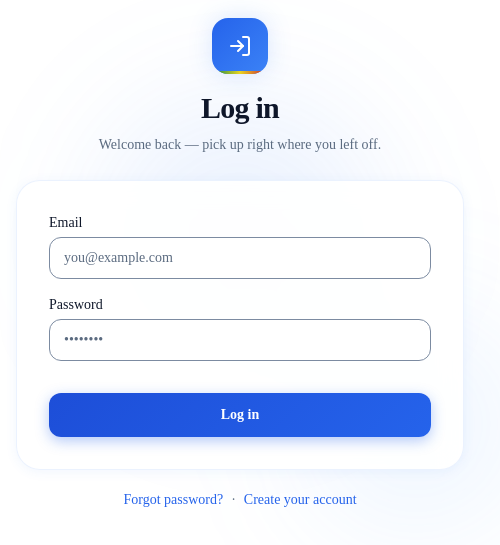
Test: Auth forms › login: fields have labels, names stay, and a failure is announced as an alert
Type "a@b.et" into the field labelled "Email" at (240,258), box [49, 237, 431, 279]
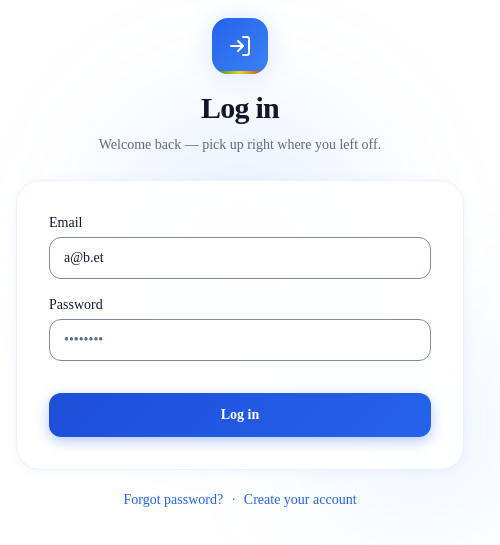
Type "x" into the password field labelled "Password" at (240,340), box [49, 319, 431, 361]
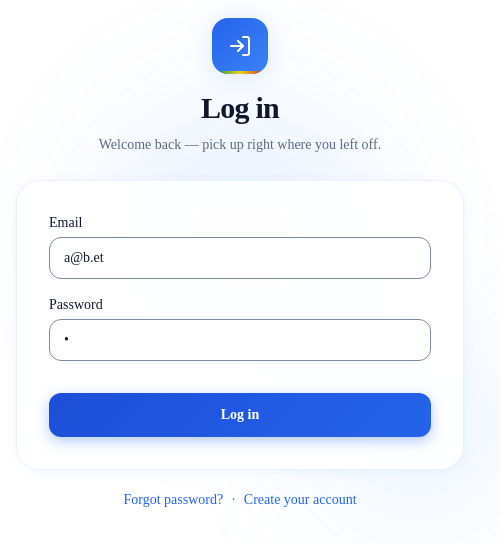
Submit the form labelled "Email", box [49, 213, 431, 437]
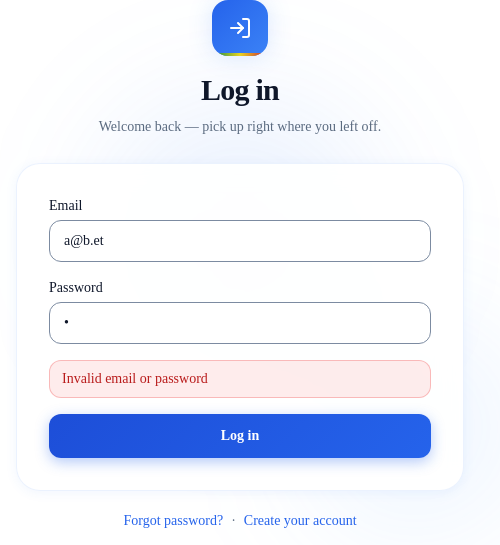
Expected: the message reads "Invalid email or password", [62, 371, 208, 386]
